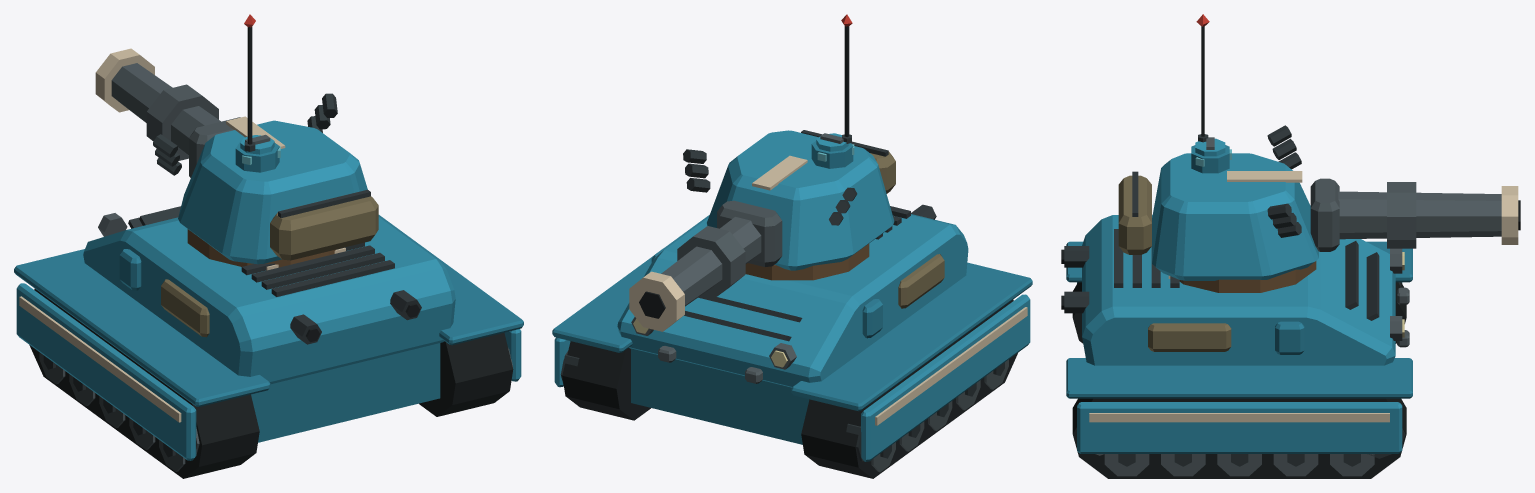
3 views of the same model, side by side, from view 1: azimuth 30°, elevation 25°; view 2: azimuth 150°, elevation 25°; view 3: azimuth 270°, elevation 25° (orthographic). The views are drawn at different scales.
Parts seen in each view (by area): view 1: hull_00, turret_00; view 2: hull_00, turret_00; view 3: hull_00, turret_00.
Boxes of the visible parts, x1=… form: hull_00: x1=14, y1=206, x2=523, y2=478; turret_00: x1=95, y1=14, x2=378, y2=267; hull_00: x1=552, y1=204, x2=1032, y2=478; turret_00: x1=629, y1=14, x2=895, y2=331; hull_00: x1=1061, y1=215, x2=1412, y2=478; turret_00: x1=1118, y1=14, x2=1520, y2=292.
Bounding box in the file's own units: 0.884 × 0.9938 × 1.1.
